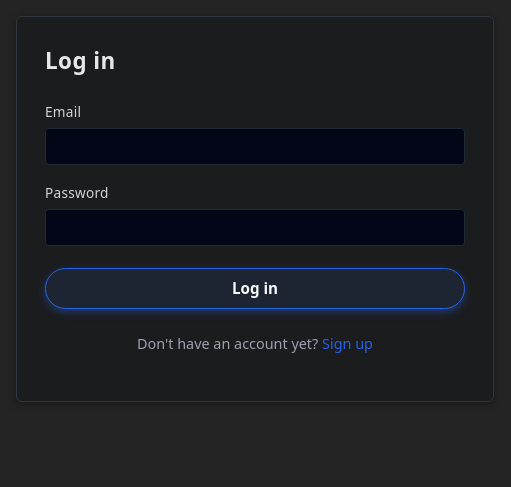
Test: Login Component › manage login failure
The image size is (511, 487).
Type "john@test.com" into the field labelled "Email" at (255, 147), box x1=45 y1=128 x2=465 y2=165
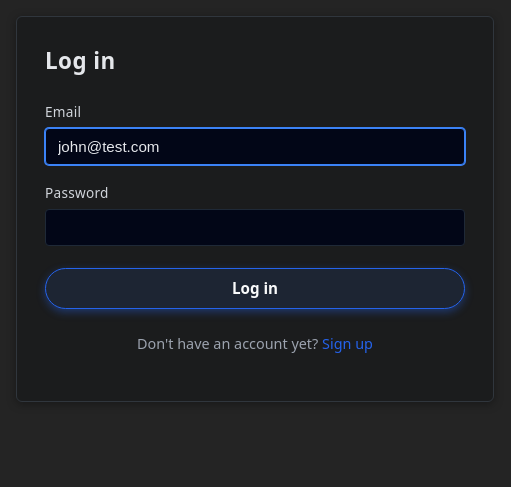
Type "wrongpass" into the password field labelled "Password" at (255, 228), box x1=45 y1=209 x2=465 y2=246
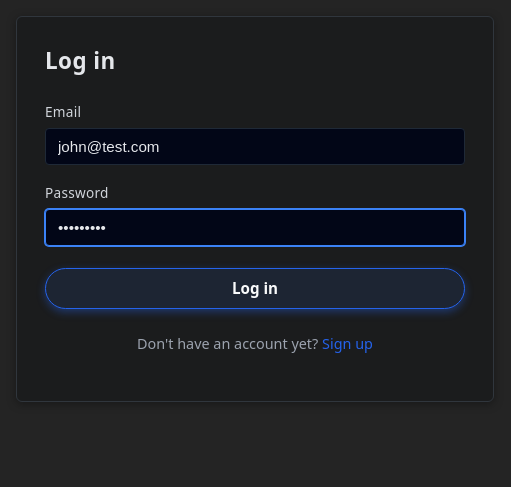
Click the button "Log in" at (255, 288), box x1=45 y1=268 x2=465 y2=309
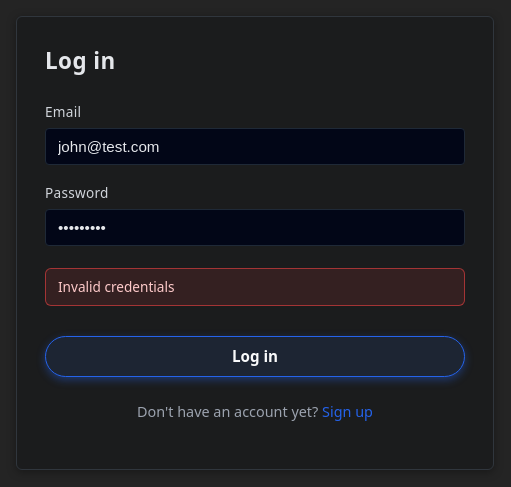
Now the text "Invalid credentials" is shown, box x1=45 y1=268 x2=465 y2=306
